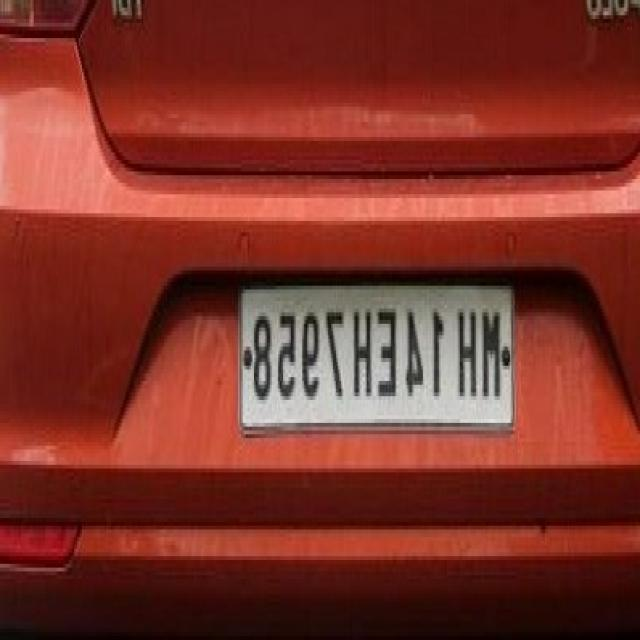number-plate: (242, 283, 513, 426)
